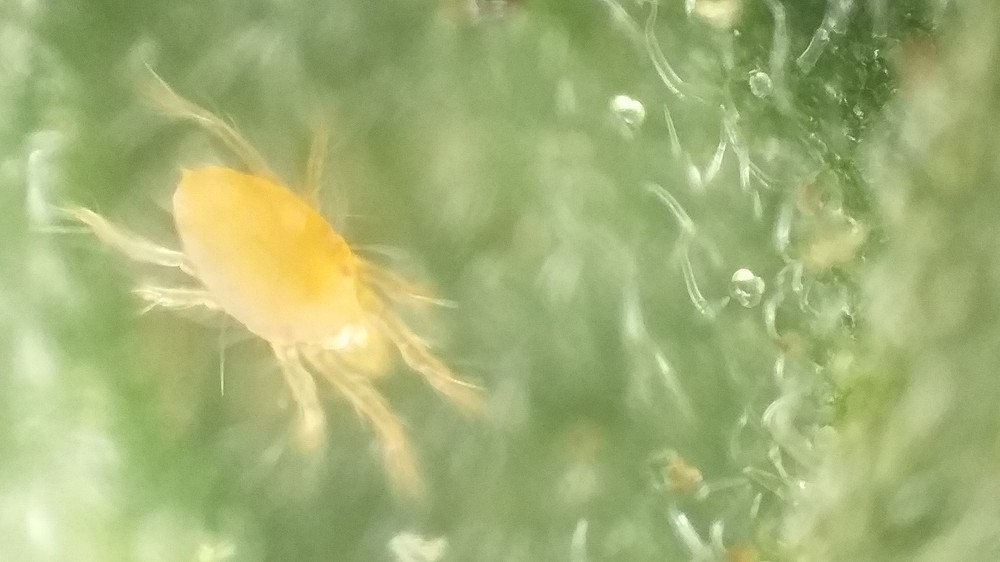Aracnido Rojo: (66, 66, 536, 506)
